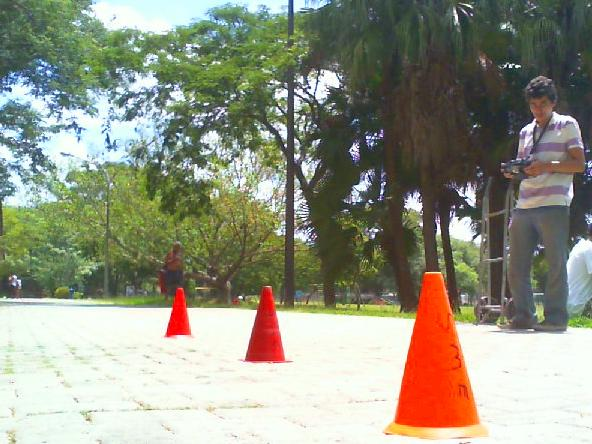0 cone: (383, 272, 487, 440), (239, 286, 293, 363), (164, 287, 192, 339)
